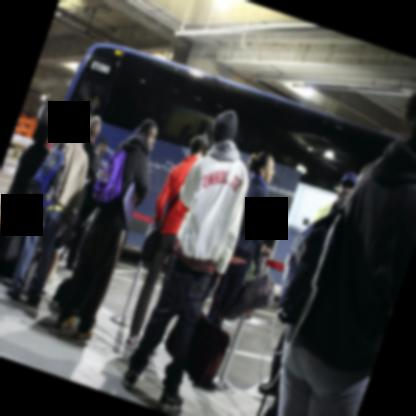backpack: (259, 170, 370, 391), (27, 148, 64, 213), (93, 151, 126, 209)
handbag: (224, 258, 275, 324), (139, 190, 180, 262)
